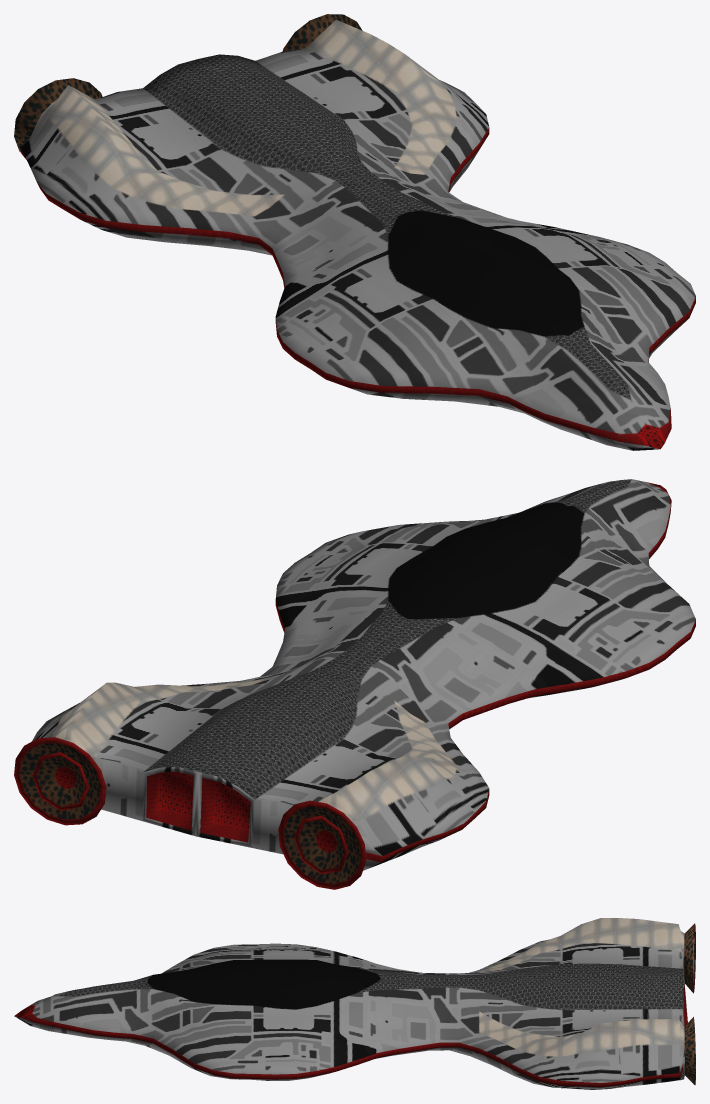
Rendered from nave_figfighter.obj.
3 views of the same model, one above another, from view 1: azimuth 30°, elevation 25°; view 2: azimuth 150°, elevation 25°; view 3: azimuth 270°, elevation 25° (orthographic). The views are drawn at different scales.
Parts seen in each view (by area): view 1: nave_figfighter; view 2: nave_figfighter; view 3: nave_figfighter.
Boxes of the visible parts, x1=… form: nave_figfighter: x1=14, y1=14, x2=695, y2=450; nave_figfighter: x1=14, y1=479, x2=695, y2=889; nave_figfighter: x1=14, y1=918, x2=695, y2=1089.
Bounding box in the file's own units: 3.59 × 0.7563 × 7.
Materials: 1 (1 with a texture image).
